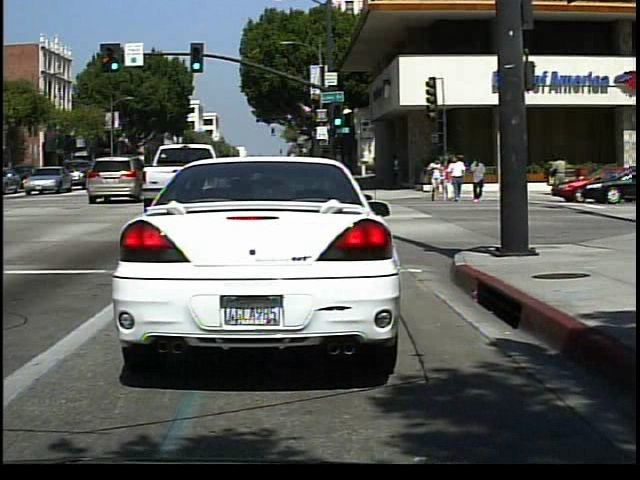person: (446, 150, 470, 204), (467, 152, 490, 202), (548, 152, 571, 199), (426, 155, 443, 204), (438, 157, 453, 205)
